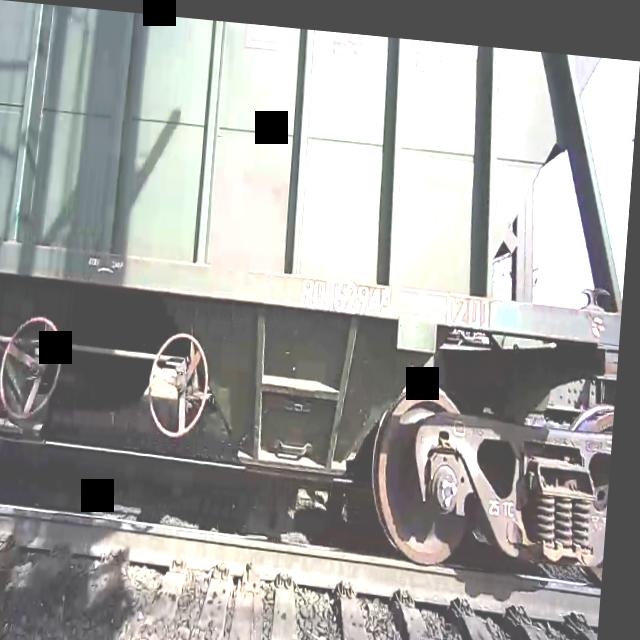hopper: (0, 0, 640, 582)
